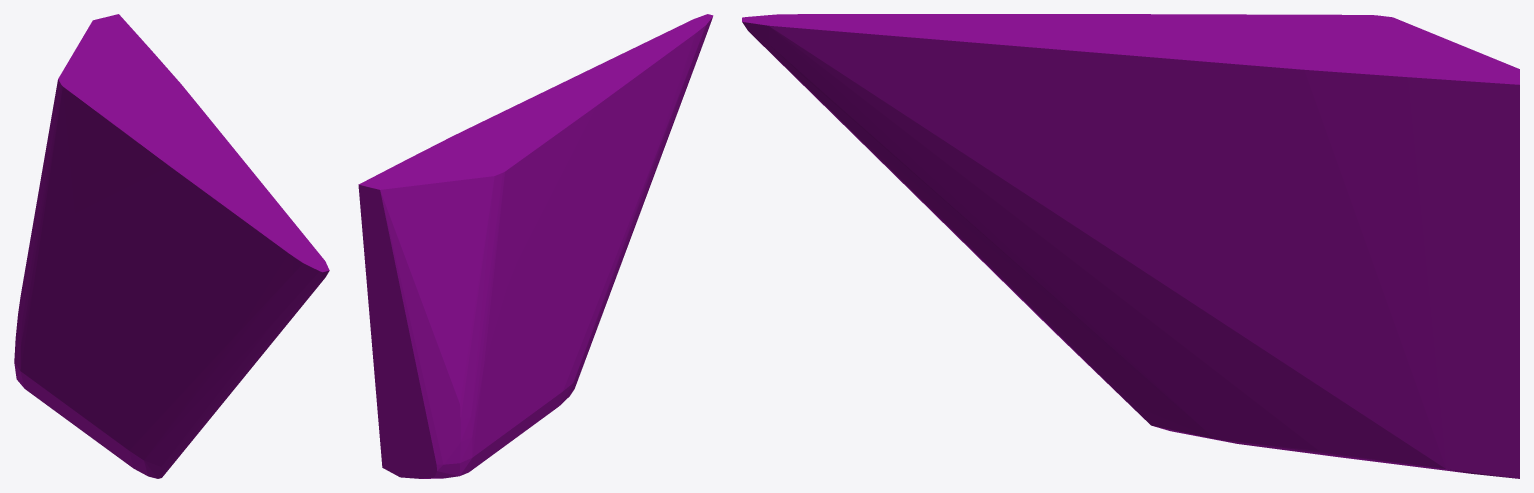
The model's file is left-shoulder-pitch-0_part_152.obj.
3 views of the same model, side by side, from view 1: azimuth 30°, elevation 25°; view 2: azimuth 150°, elevation 25°; view 3: azimuth 270°, elevation 25° (orthographic). The views are drawn at different scales.
Bounding box in the file's own units: 0.0105 × 0.0291 × 0.0486.
